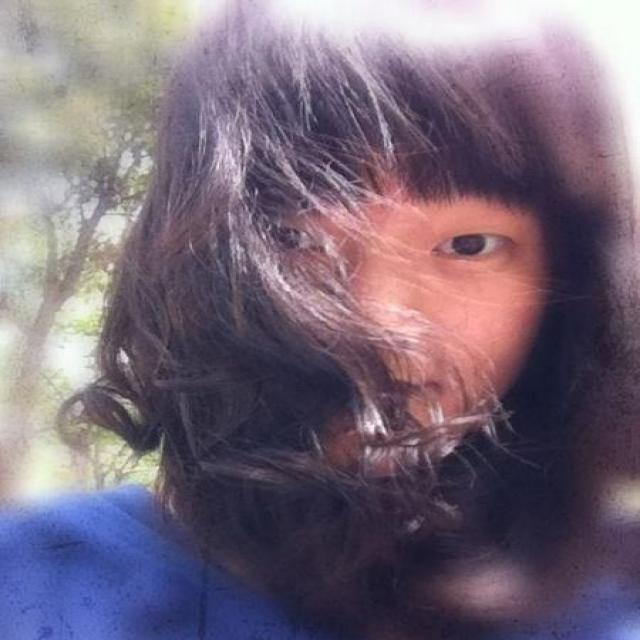nomask: (232, 80, 556, 489)
